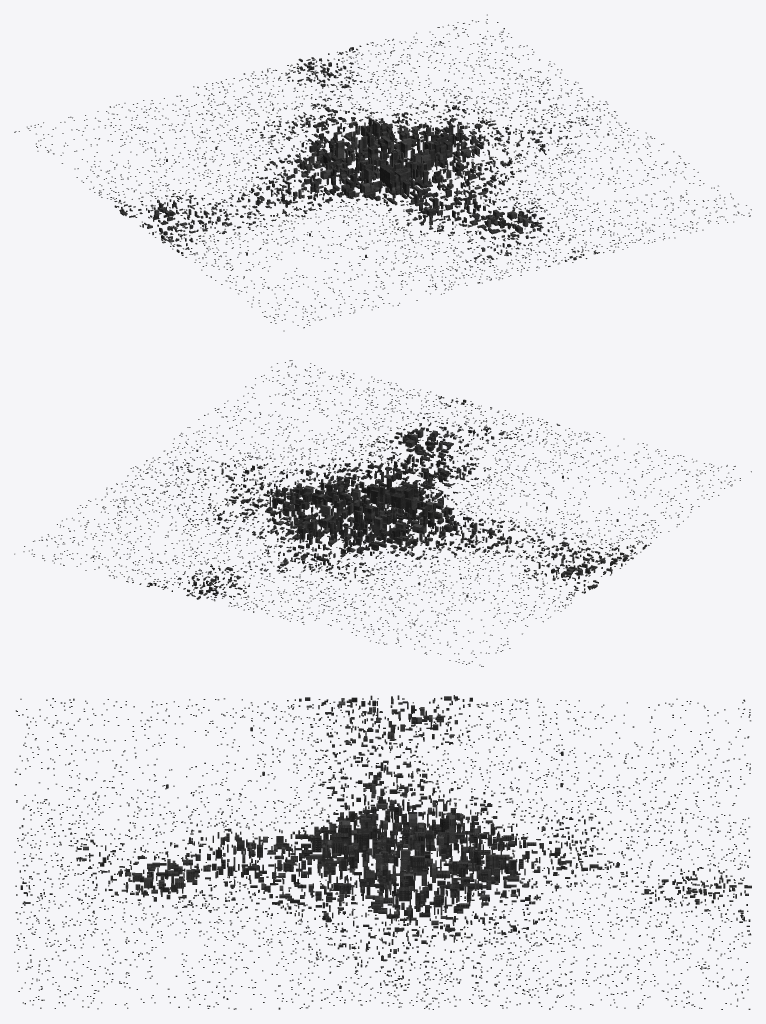
File: city-layer-1.glb
The picture shows the model from 3 angles, top to bottom: view 1: azimuth 30°, elevation 25°; view 2: azimuth 150°, elevation 25°; view 3: azimuth 270°, elevation 25°; orthographic projection. The views are drawn at different scales.
Visible parts, largest first — view 1: Scatter city_SC low-poly building facade_0.013, Scatter city_SC low-poly building facade_0.014, Scatter city_SC low-poly building facade_0.012; view 2: Scatter city_SC low-poly building facade_0.013, Scatter city_SC low-poly building facade_0.014, Scatter city_SC low-poly building facade_0.012; view 3: Scatter city_SC low-poly building facade_0.013, Scatter city_SC low-poly building facade_0.014, Scatter city_SC low-poly building facade_0.012.
Part boxes in pixels (x1,y1,x2,y2): Scatter city_SC low-poly building facade_0.013: [15, 14, 751, 328]; Scatter city_SC low-poly building facade_0.014: [27, 21, 750, 325]; Scatter city_SC low-poly building facade_0.012: [14, 21, 749, 331]; Scatter city_SC low-poly building facade_0.013: [14, 360, 735, 666]; Scatter city_SC low-poly building facade_0.014: [31, 360, 740, 663]; Scatter city_SC low-poly building facade_0.012: [32, 362, 751, 666]; Scatter city_SC low-poly building facade_0.013: [14, 695, 750, 1009]; Scatter city_SC low-poly building facade_0.014: [16, 695, 751, 1009]; Scatter city_SC low-poly building facade_0.012: [14, 698, 751, 1009].
Size of the model in its own units: 50.16 by 2.27 by 50.15.
1 material, 1 textured.
